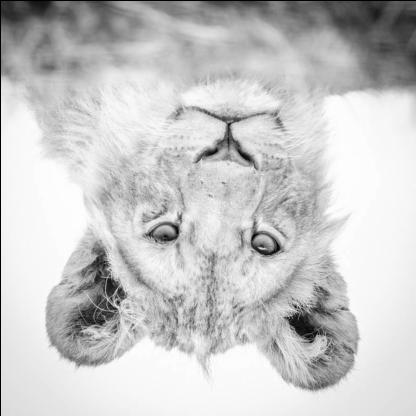lion: (40, 66, 366, 384)
